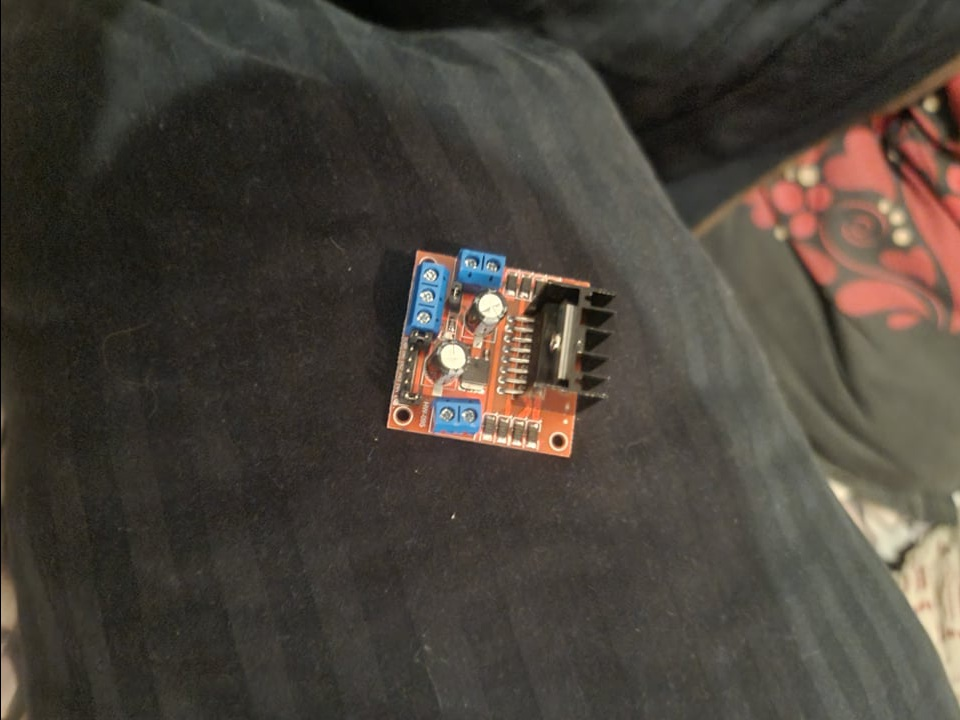MOTOR: (380, 246, 619, 459)
